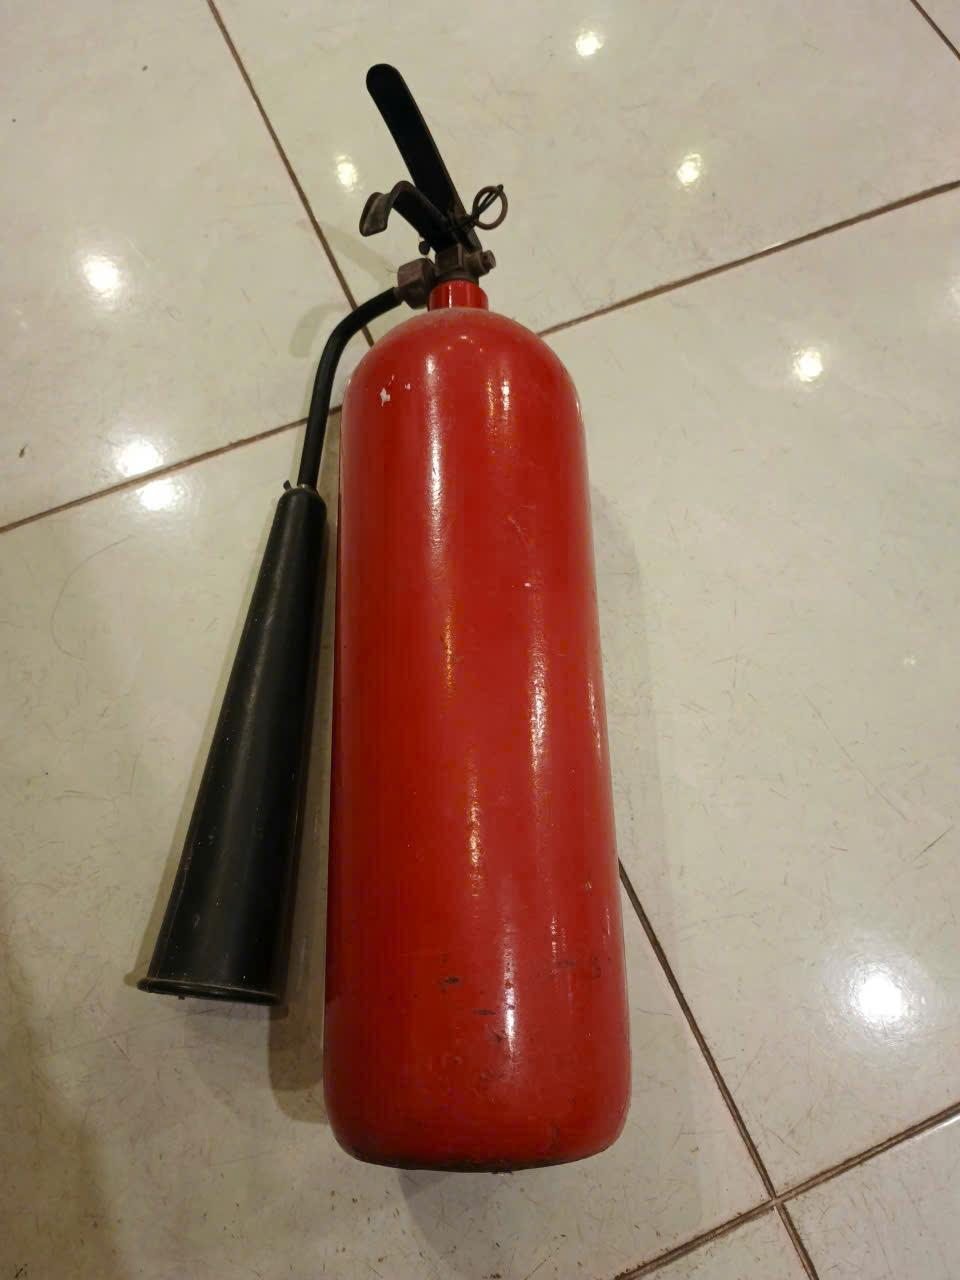Con lai: (127, 60, 634, 1171)
